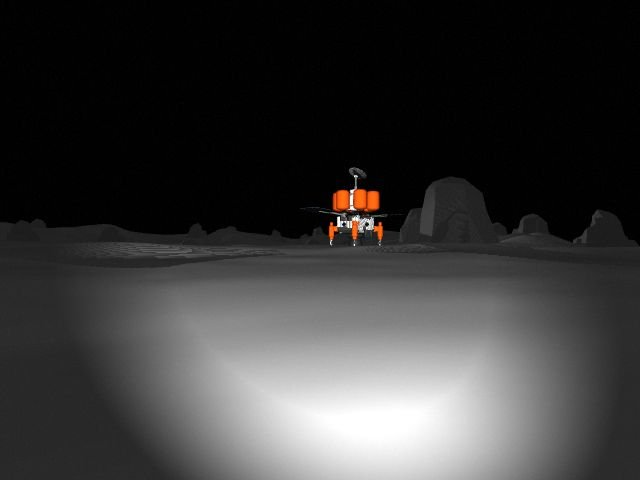homebase: (300, 164, 403, 251)
